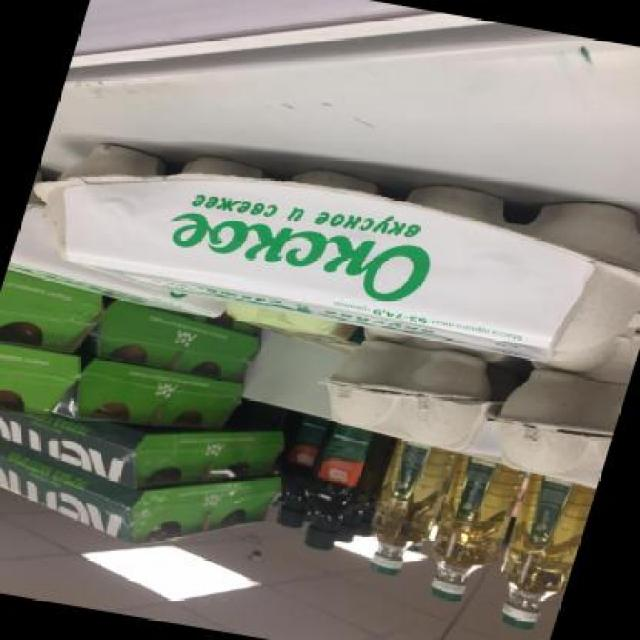Egg: (8, 108, 640, 378), (300, 330, 500, 459), (476, 466, 599, 640), (470, 361, 628, 488), (408, 451, 524, 620), (350, 435, 455, 593), (292, 422, 392, 563), (260, 412, 345, 540)
